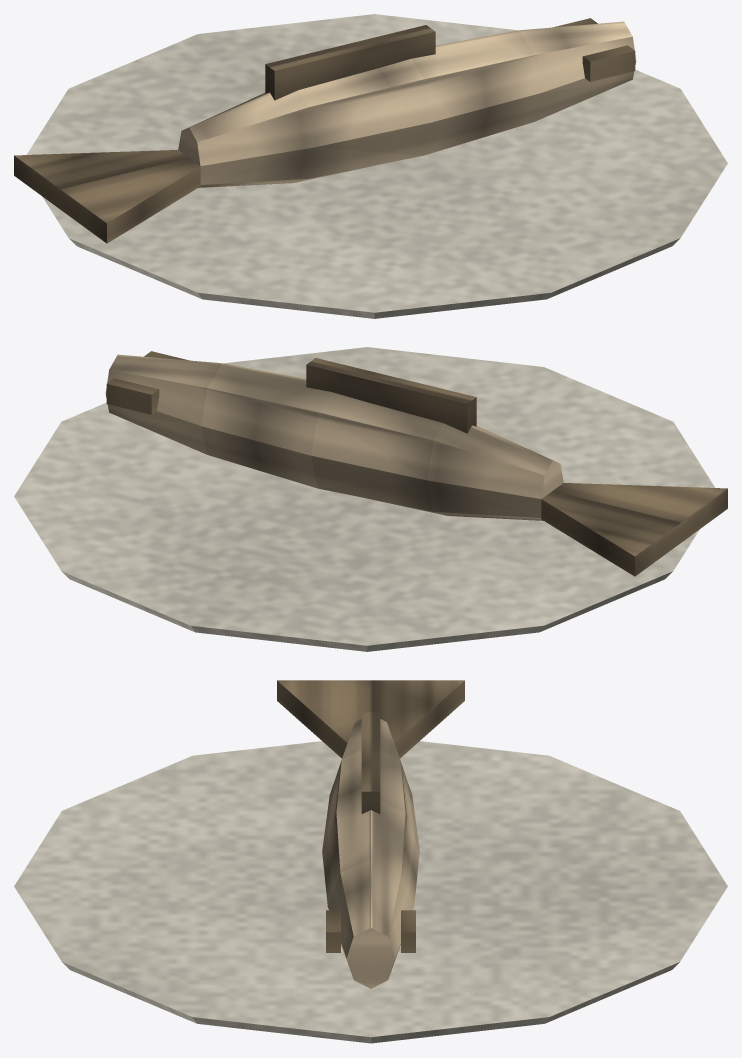
The model's file is steamed_fish.fbx.
3 renders of one model, top to bottom at view 1: azimuth 30°, elevation 25°; view 2: azimuth 150°, elevation 25°; view 3: azimuth 270°, elevation 25°, orthographic.
Visible parts, largest first — view 1: steamed_fish; view 2: steamed_fish; view 3: steamed_fish.
Boxes of the visible parts, left/top/right/bottom form: steamed_fish: left=14, top=14, right=727, bottom=318; steamed_fish: left=14, top=347, right=727, bottom=651; steamed_fish: left=14, top=680, right=727, bottom=1043.
Size of the model in its own units: 38.5 by 10.4 by 38.
